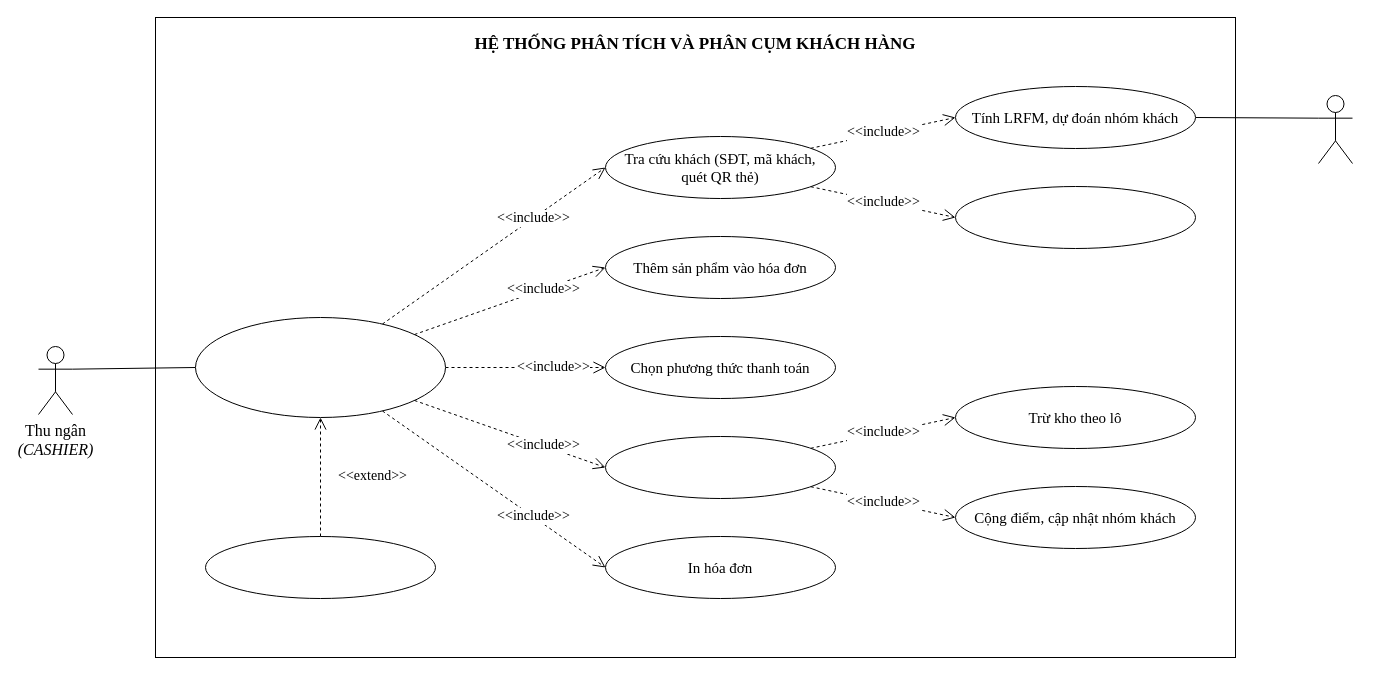
The diagram is 1389 pixels wide and 675 high, and some of its shapes have lost their labels. The centre of each missing label's shape, as x and y in pixels:
"Chọn quà tặng" goes at (320,567).
"Dịch vụ AI (FAST API)" goes at (1335,129).
"Hiển thị nhóm, ưu đãi, quà, điểm" goes at (1075,217).
"Thanh toán tại quầy có áp dụng ưu đãi theo nhóm khách" goes at (320,367).
"Tính lại tổng tiền, lưu hóa đơn" goes at (720,467).
